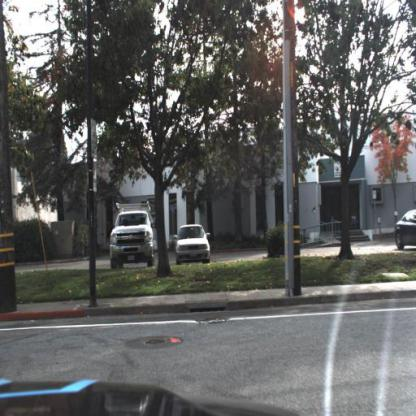car: (108, 202, 156, 270), (174, 223, 213, 263), (393, 205, 416, 258)
